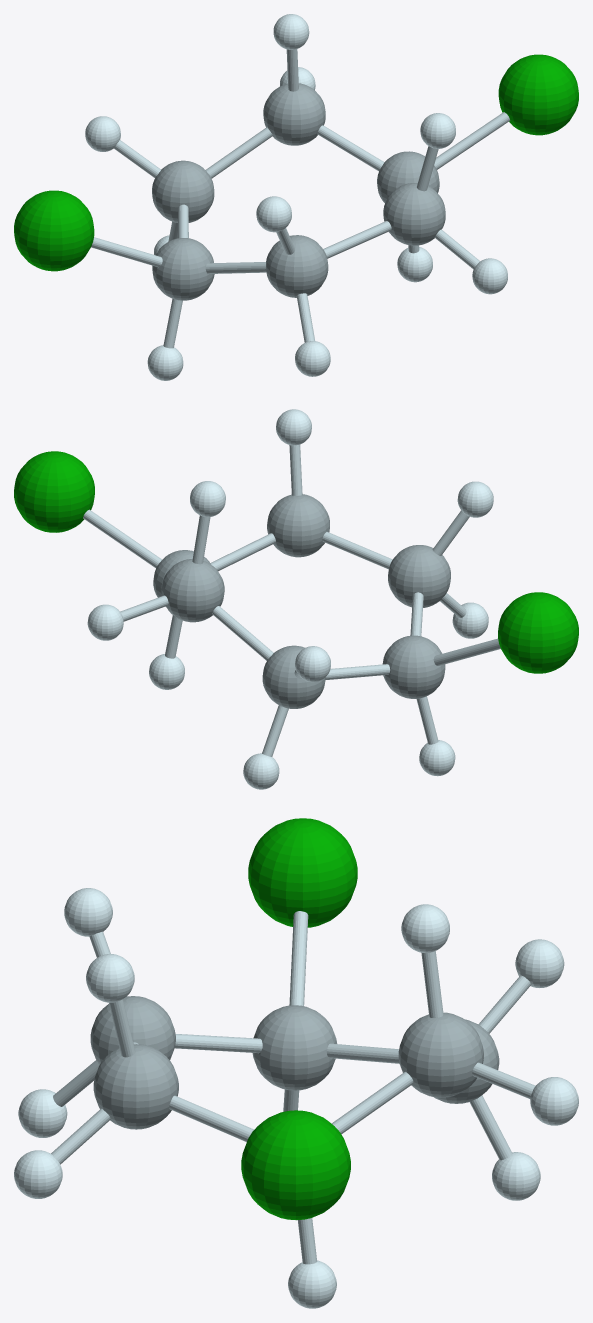
The model's file is irc_step_073.glb.
3 renders of one model, top to bottom at view 1: azimuth 30°, elevation 25°; view 2: azimuth 150°, elevation 25°; view 3: azimuth 270°, elevation 25°, orthographic. The views are drawn at different scales.
Visible parts, largest first — view 1: Renderer Node; view 2: Renderer Node; view 3: Renderer Node.
Part boxes in pixels (<box>): Renderer Node: <box>14,14,578,380</box>; Renderer Node: <box>14,409,578,789</box>; Renderer Node: <box>14,818,578,1308</box>.
Size of the model in its own units: 7.08 by 3.47 by 4.62.
